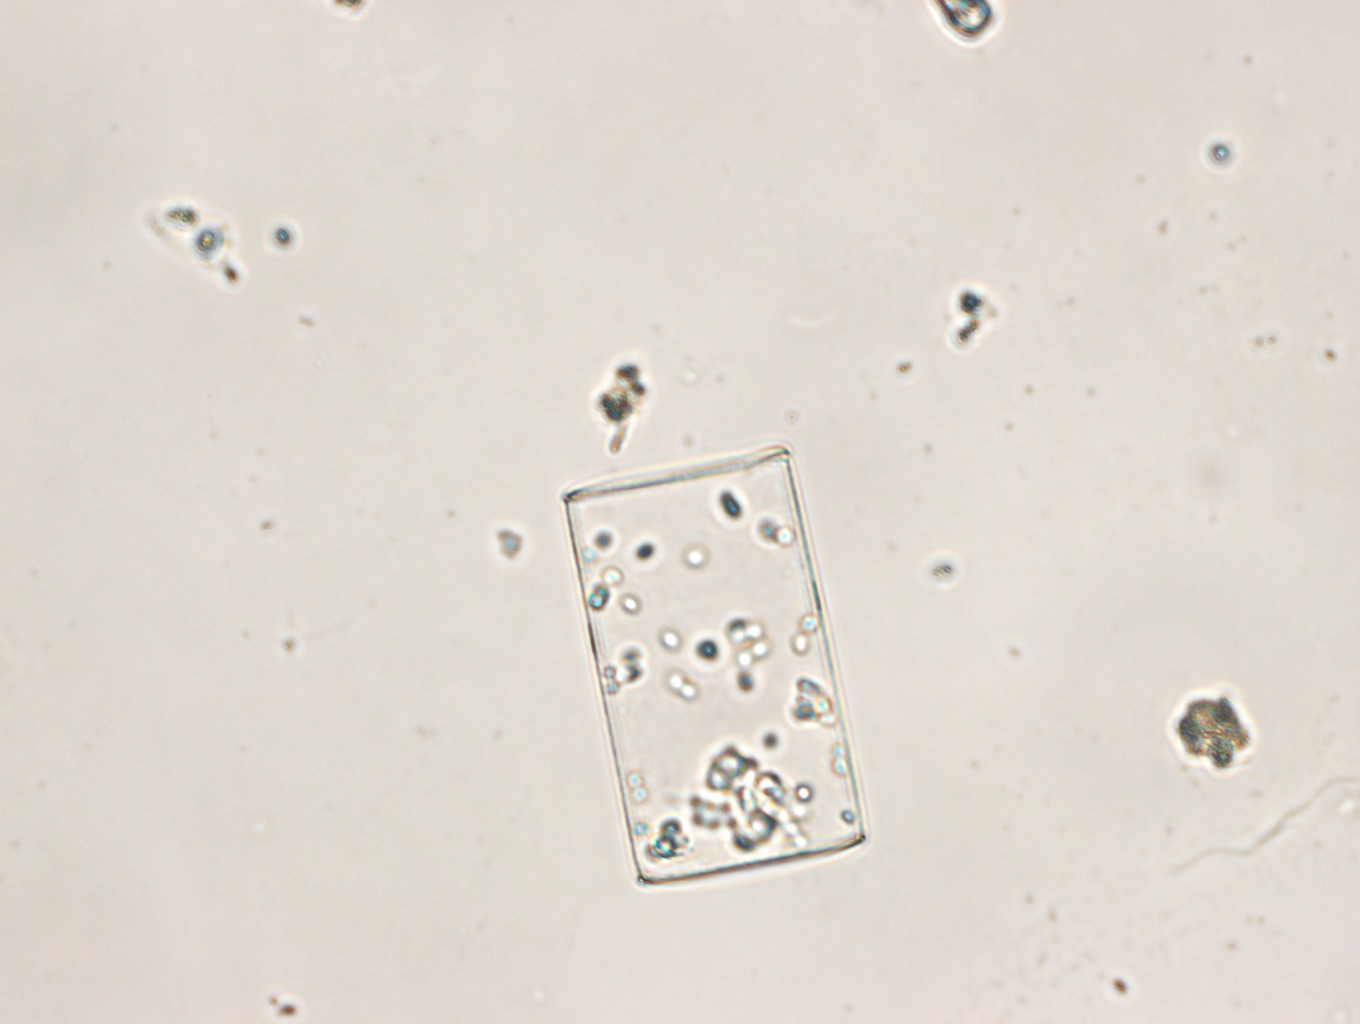guinardia flaccida: (562, 447, 870, 886)
